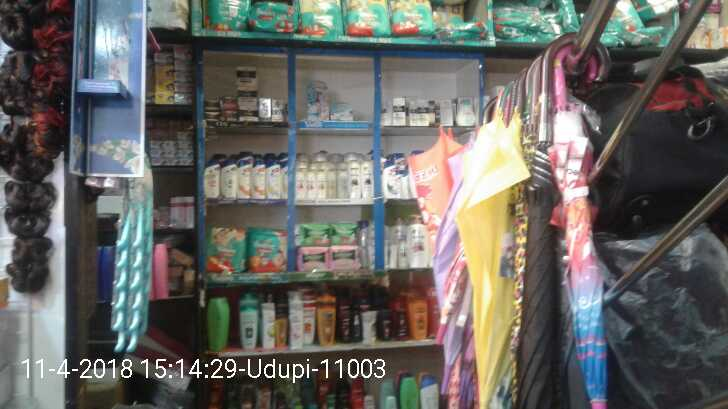venus: (306, 80, 329, 122), (330, 102, 353, 121)
